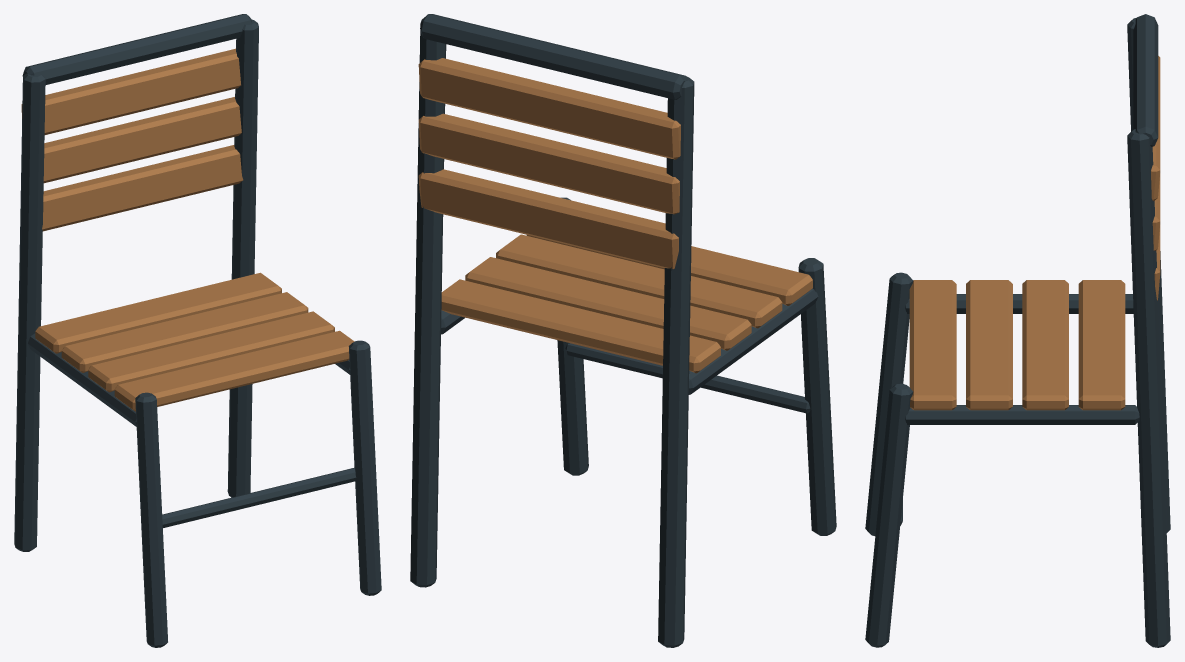
File: b10_woven_metal_cafe_chair.glb
3 renders of one model, left to right at view 1: azimuth 30°, elevation 25°; view 2: azimuth 150°, elevation 25°; view 3: azimuth 270°, elevation 25°, orthographic. The views are drawn at different scales.
Parts seen in each view (by area): view 1: b10_woven_metal_cafe_chair; view 2: b10_woven_metal_cafe_chair; view 3: b10_woven_metal_cafe_chair.
Part boxes in pixels (x1=…): b10_woven_metal_cafe_chair: x1=14, y1=14, x2=381, y2=647; b10_woven_metal_cafe_chair: x1=410, y1=14, x2=836, y2=647; b10_woven_metal_cafe_chair: x1=865, y1=14, x2=1170, y2=647.
Size of the model in its own units: 0.46 by 0.916 by 0.4881.
